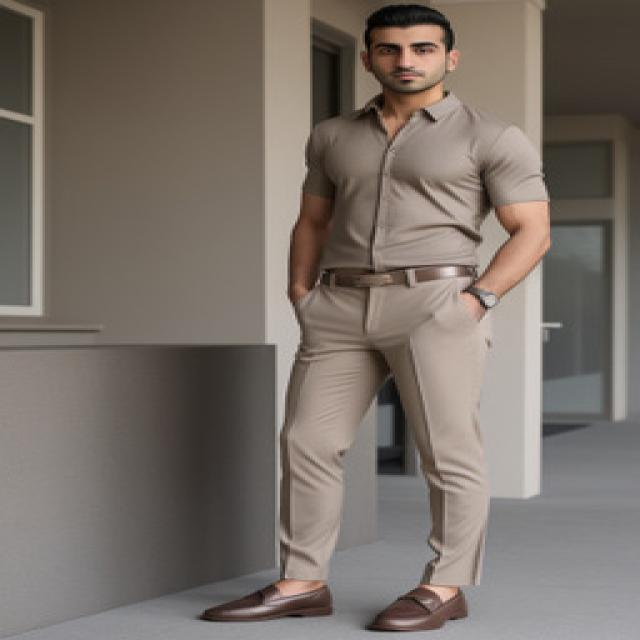Ai human 2: (219, 0, 556, 638)
